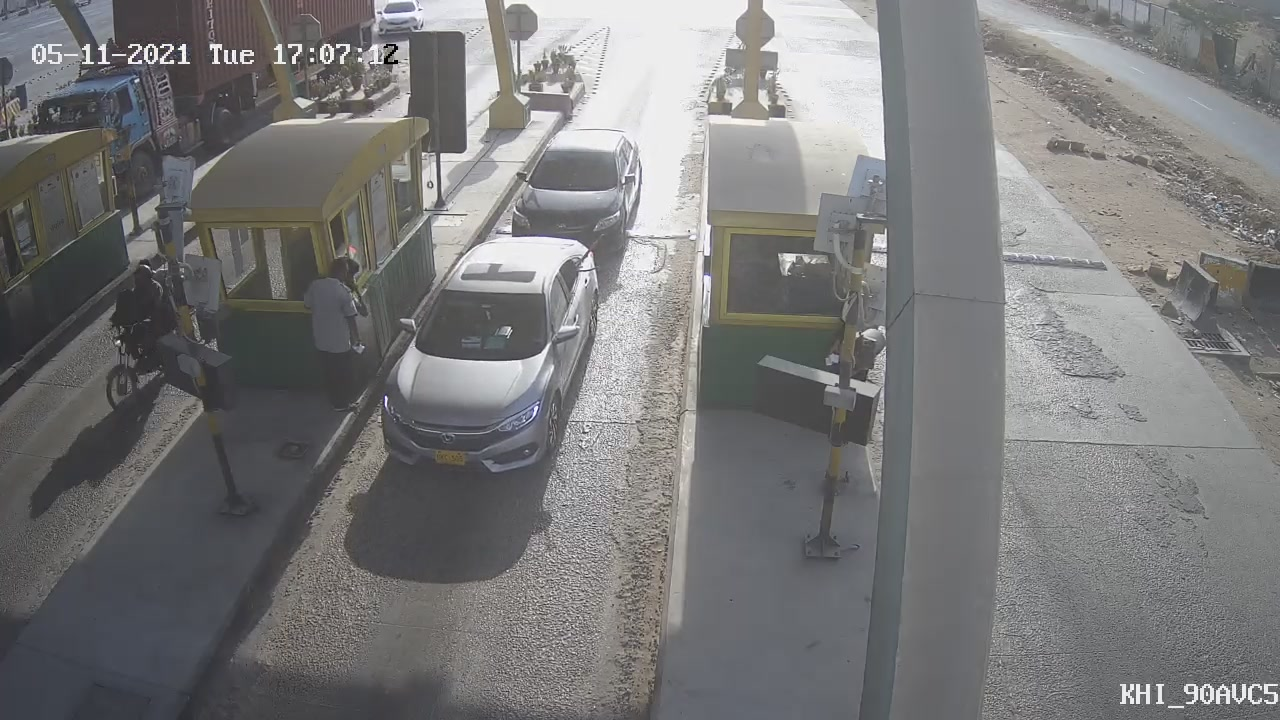F1: (360, 218, 622, 495), (495, 108, 657, 281)
